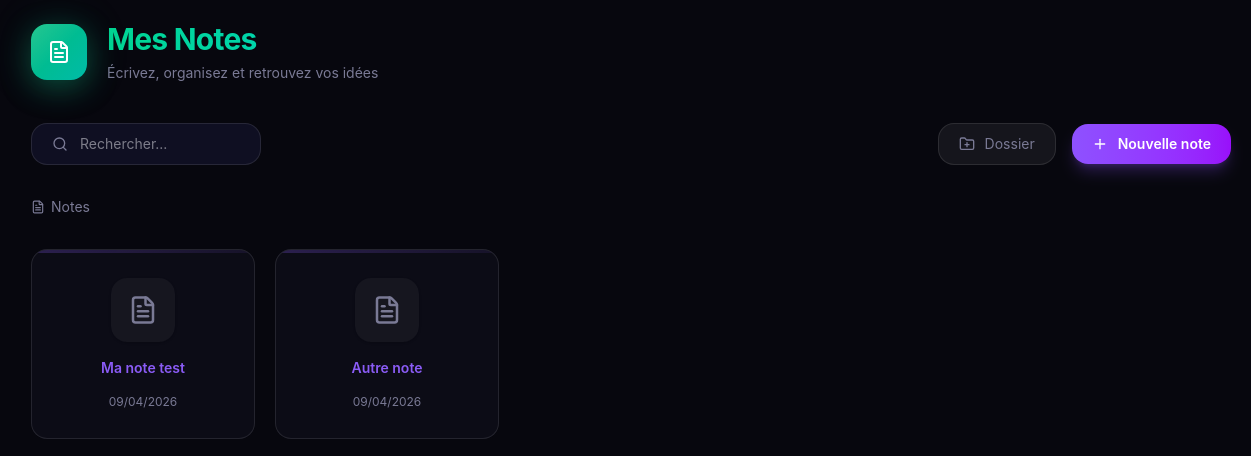
Notes - Browser view › filters notes by search
The width and height of the screenshot is (1251, 456).
Type "Autre" into the field with placeholder "Rechercher...".
click(160, 144); type("Autre")  # box left=80, top=134, right=240, bottom=154
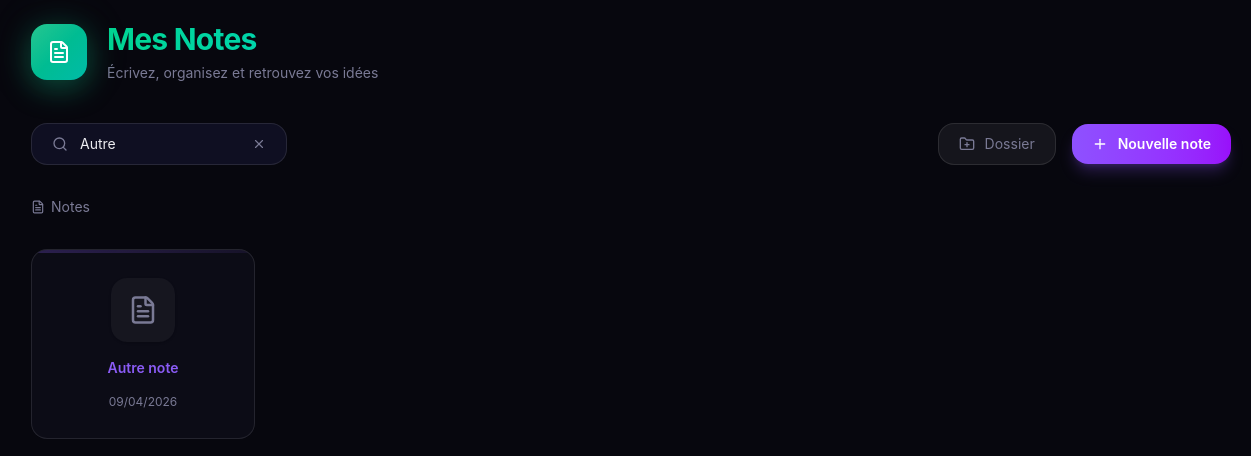
Check: the text "Autre note" is shown, box left=108, top=358, right=178, bottom=378
Check: the text "Ma note test" is gone
